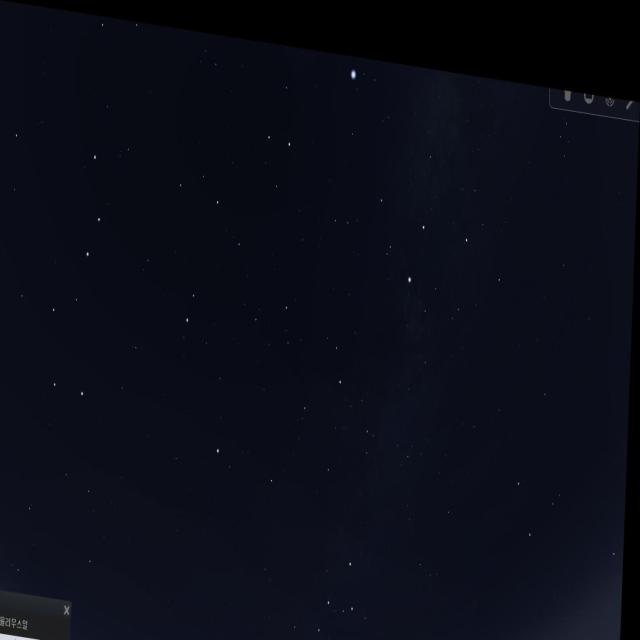cassiopeia: (290, 513, 377, 640)
cygnus: (369, 80, 476, 288)
ursa_major: (42, 111, 123, 414)
